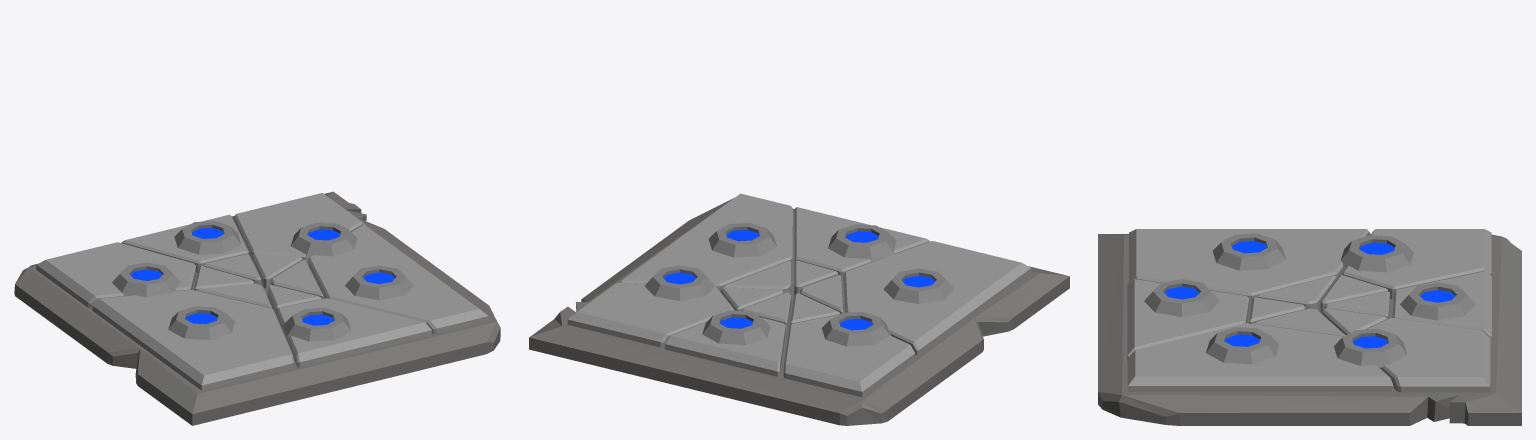
Rendered from plate_7.fbx.
3 views of the same model, side by side, from view 1: azimuth 30°, elevation 25°; view 2: azimuth 150°, elevation 25°; view 3: azimuth 270°, elevation 25° (orthographic). The views are drawn at different scales.
Parts seen in each view (by area): view 1: plate_7, plate_base_7, Цилиндр.006; view 2: plate_7, plate_base_7, Цилиндр.006; view 3: plate_7, plate_base_7, Цилиндр.006.
Part boxes in pixels (left/top/right/bottom): plate_7: left=36, top=193, right=488, bottom=390; plate_base_7: left=14, top=191, right=500, bottom=425; Цилиндр.006: left=112, top=221, right=413, bottom=341; plate_7: left=567, top=193, right=1031, bottom=397; plate_base_7: left=529, top=198, right=1069, bottom=425; Цилиндр.006: left=645, top=222, right=954, bottom=346; plate_7: left=1127, top=229, right=1491, bottom=392; plate_base_7: left=1098, top=234, right=1521, bottom=425; Цилиндр.006: left=1144, top=233, right=1475, bottom=367.
Bounding box in the file's own units: 1.3 × 1.09 × 1.3.
